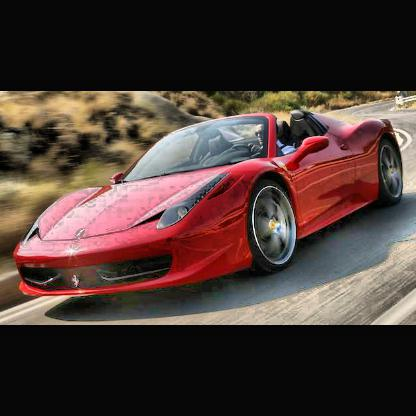Ferrari 458 Italia Convertible 2012: (16, 109, 405, 297)
